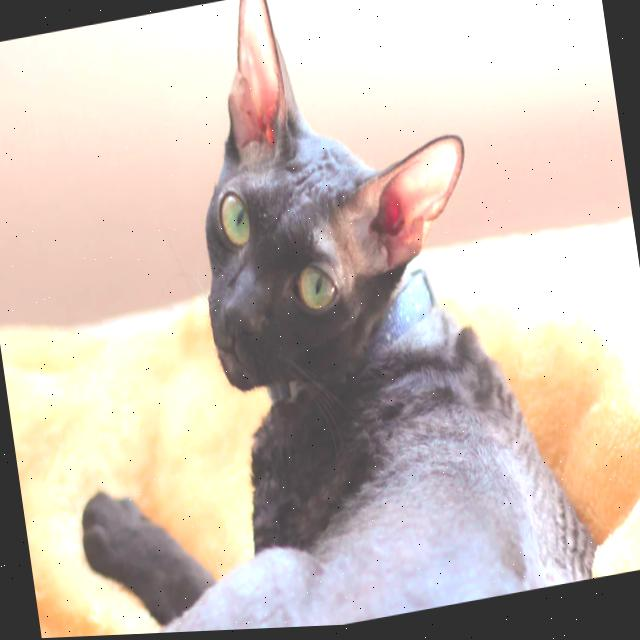Cornish Rex: (7, 0, 609, 640)
